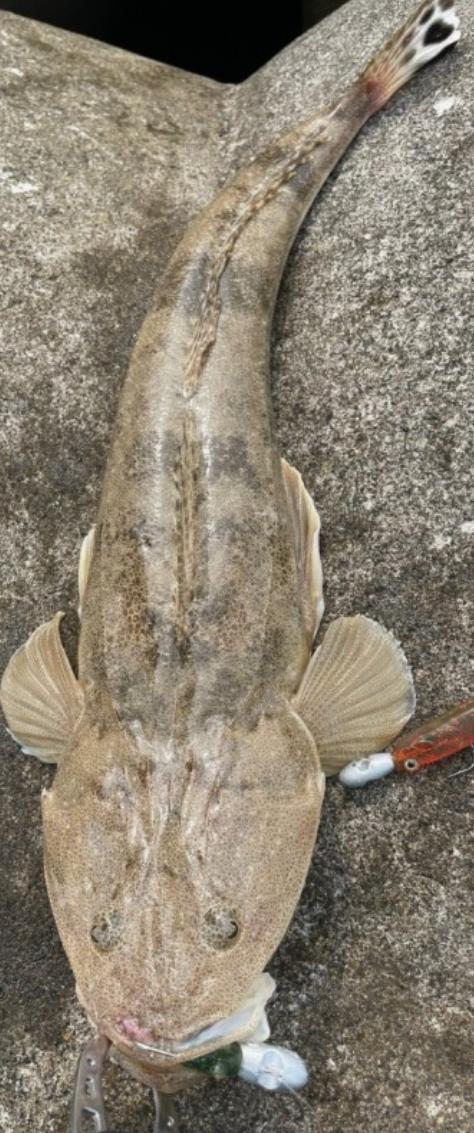fish: (2, 0, 458, 1093)
